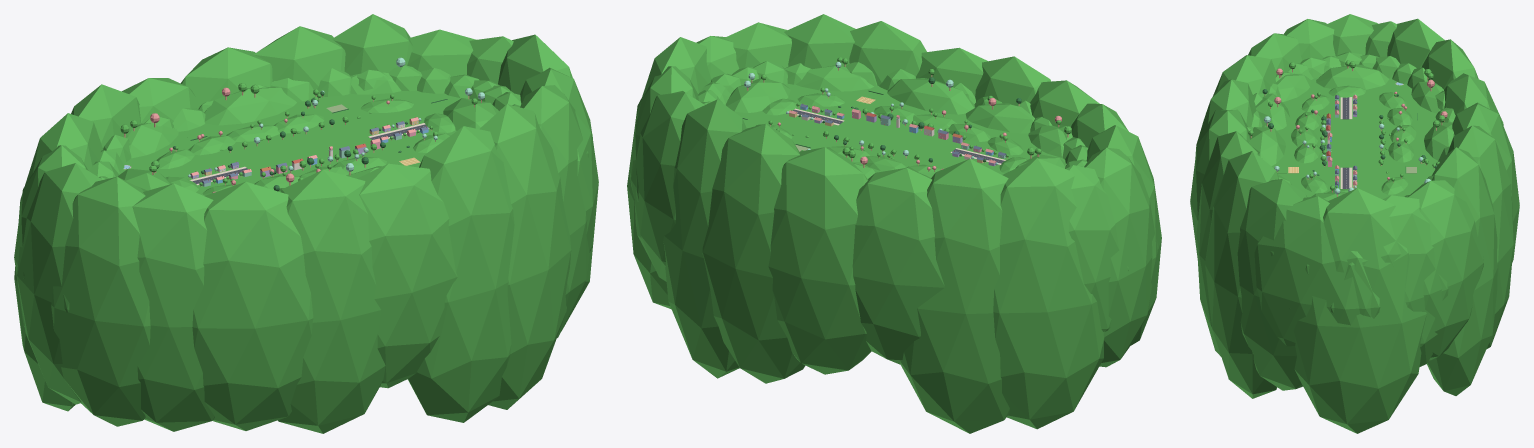
Rendered from CleanACat_Area_BackdropBig.fbx.
The picture shows the model from 3 angles, left to right: view 1: azimuth 30°, elevation 25°; view 2: azimuth 150°, elevation 25°; view 3: azimuth 270°, elevation 25°; orthographic projection. The views are drawn at different scales.
Parts seen in each view (by area): view 1: CleanACat_Area_BackdropBig_Peaks, CleanACat_Area_BackdropBig_HillsFar, CleanACat_Area_BackdropBig_Ground, CleanACat_Area_BackdropBig, CleanACat_Area_BackdropBig_Hills; view 2: CleanACat_Area_BackdropBig_Peaks, CleanACat_Area_BackdropBig_HillsFar, CleanACat_Area_BackdropBig_Ground, CleanACat_Area_BackdropBig, CleanACat_Area_BackdropBig_Hills; view 3: CleanACat_Area_BackdropBig_Peaks, CleanACat_Area_BackdropBig_Ground, CleanACat_Area_BackdropBig_HillsFar, CleanACat_Area_BackdropBig_Hills, CleanACat_Area_BackdropBig.
Part boxes in pixels (box(x1,y1,x2,y2)): CleanACat_Area_BackdropBig_Peaks: box(14, 14, 598, 433); CleanACat_Area_BackdropBig_HillsFar: box(89, 65, 521, 191); CleanACat_Area_BackdropBig_Ground: box(119, 90, 460, 195); CleanACat_Area_BackdropBig: box(120, 57, 484, 192); CleanACat_Area_BackdropBig_Hills: box(156, 98, 455, 195); CleanACat_Area_BackdropBig_Peaks: box(627, 14, 1161, 433); CleanACat_Area_BackdropBig_HillsFar: box(698, 61, 1088, 178); CleanACat_Area_BackdropBig_Ground: box(725, 84, 1065, 174); CleanACat_Area_BackdropBig: box(742, 57, 1071, 171); CleanACat_Area_BackdropBig_Hills: box(755, 93, 1027, 177); CleanACat_Area_BackdropBig_Peaks: box(1190, 14, 1519, 433); CleanACat_Area_BackdropBig_Ground: box(1271, 77, 1437, 199); CleanACat_Area_BackdropBig_HillsFar: box(1247, 52, 1455, 200); CleanACat_Area_BackdropBig_Hills: box(1291, 85, 1416, 194); CleanACat_Area_BackdropBig: box(1248, 60, 1447, 196).
Bounding box in the file's own units: 1572 × 839 × 1006.
Materials: 1 (1 with a texture image).
